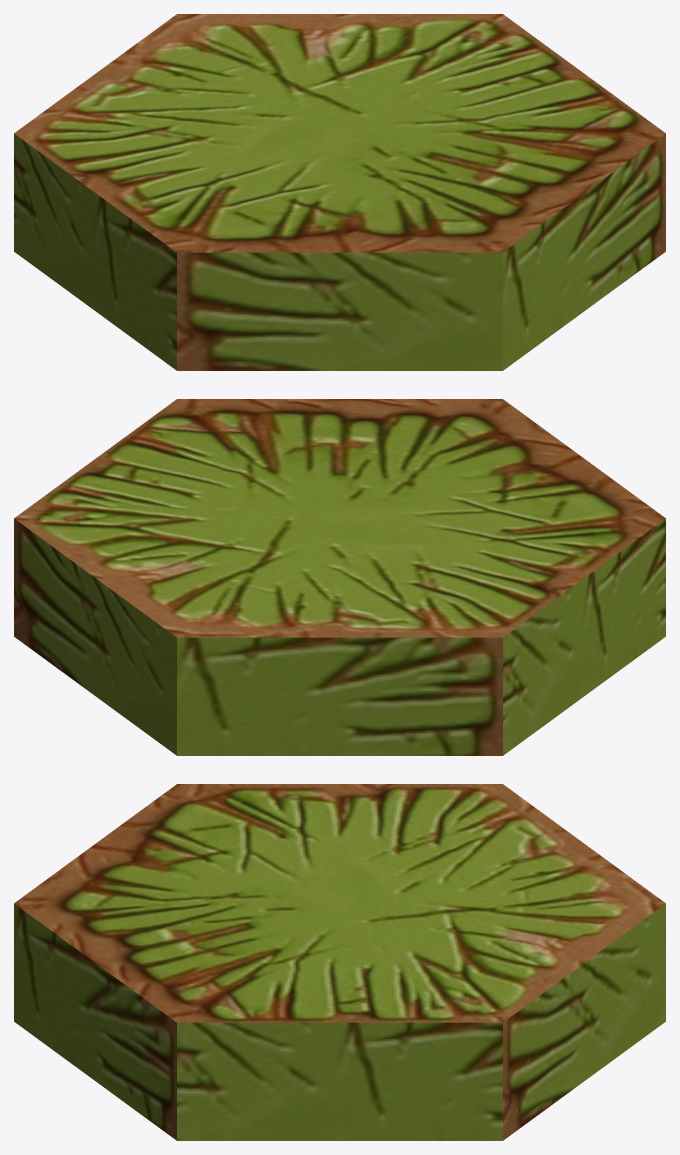
The model's file is hex tile.fbx.
3 renders of one model, top to bottom at view 1: azimuth 30°, elevation 25°; view 2: azimuth 150°, elevation 25°; view 3: azimuth 270°, elevation 25°, orthographic.
Visible parts, largest first — view 1: hex_tile; view 2: hex_tile; view 3: hex_tile.
Part boxes in pixels (x1,y1,x2,y2): hex_tile: (14, 14, 665, 370); hex_tile: (14, 399, 665, 755); hex_tile: (14, 784, 665, 1140).
Size of the model in its own units: 4.33 by 1 by 5.
Materials: 1 (1 with a texture image).
